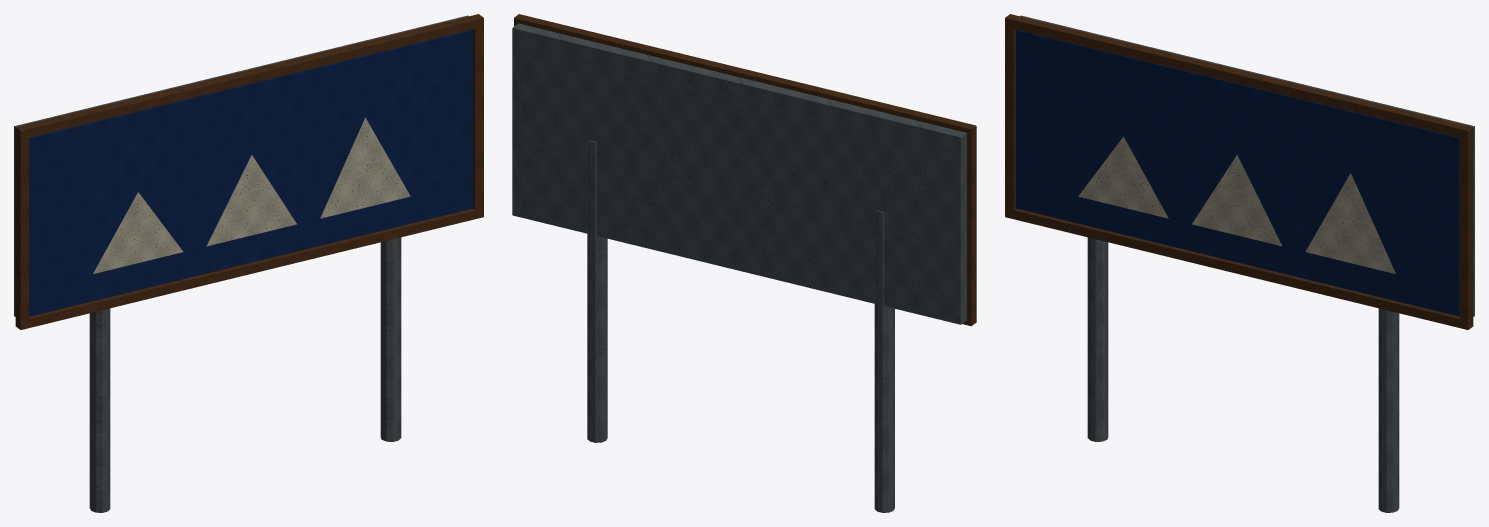
The model's file is PROP-6239D3FA2D89_lod1.glb.
3 renders of one model, left to right at view 1: azimuth 30°, elevation 25°; view 2: azimuth 150°, elevation 25°; view 3: azimuth 330°, elevation 25°, orthographic.
Visible parts, largest first — view 1: painted_sign_face.007, frame.007, original_mountain_graphic.007, sign_support.007, panel_back.007; view 2: panel_back.007, sign_support.007, frame.007; view 3: painted_sign_face.007, frame.007, original_mountain_graphic.007, sign_support.007, panel_back.007.
Boxes of the visible parts, bbox=[...] form: painted_sign_face.007: bbox=[29, 29, 472, 316]; frame.007: bbox=[15, 14, 483, 329]; original_mountain_graphic.007: bbox=[93, 117, 410, 273]; sign_support.007: bbox=[89, 226, 401, 512]; panel_back.007: bbox=[14, 15, 468, 316]; panel_back.007: bbox=[512, 23, 966, 324]; sign_support.007: bbox=[587, 140, 894, 512]; frame.007: bbox=[514, 14, 976, 326]; painted_sign_face.007: bbox=[1016, 29, 1459, 316]; frame.007: bbox=[1005, 14, 1473, 329]; original_mountain_graphic.007: bbox=[1078, 136, 1395, 273]; sign_support.007: bbox=[1087, 226, 1399, 512]; panel_back.007: bbox=[1020, 15, 1474, 316].
Bounding box in the file's own units: 5.1 × 4.25 × 0.2251.
Materials: 4 (4 with a texture image).
